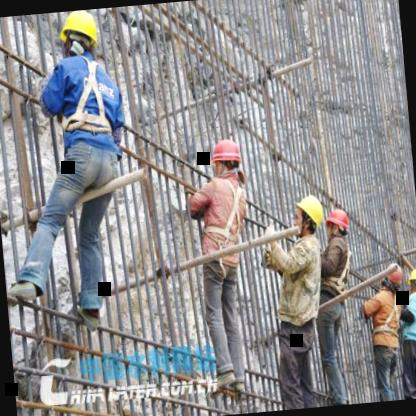helmet: (57, 10, 103, 66), (206, 134, 247, 187), (292, 192, 328, 242), (326, 208, 354, 249), (383, 261, 406, 292), (405, 260, 416, 292)
